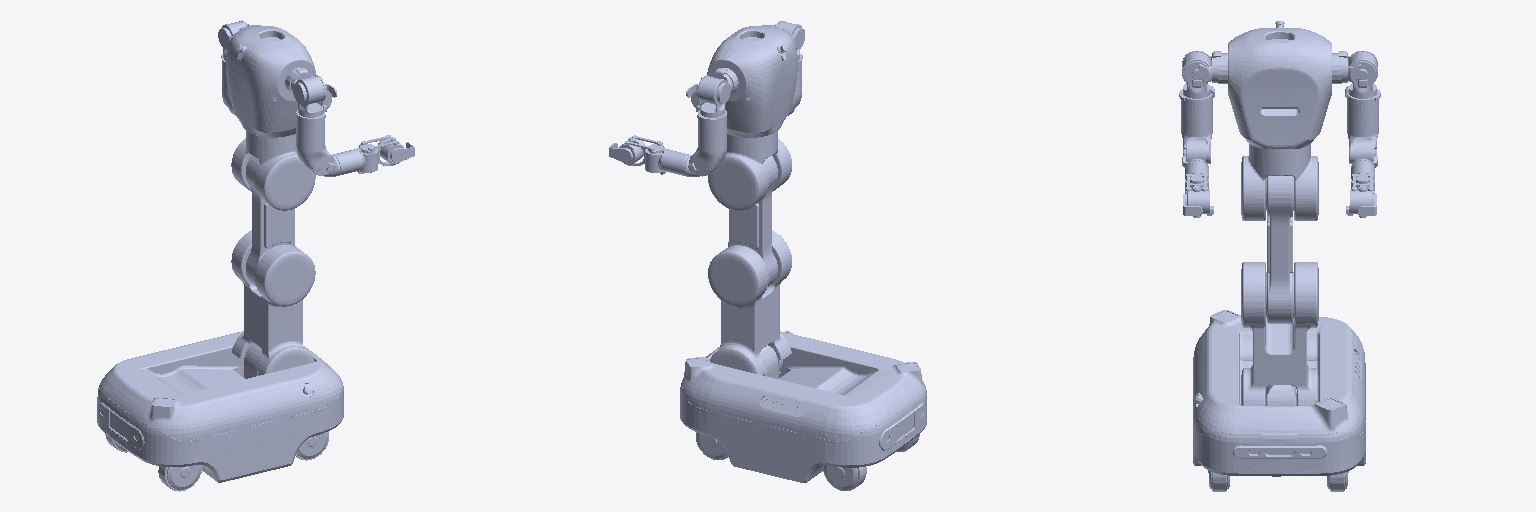
robot.urdf — wh00003_sldasm:
<?xml version="1.0" encoding="utf-8"?>
<!-- This URDF was automatically created by SolidWorks to URDF Exporter! Originally created by Stephen Brawner (brawner@gmail.com) 
     Commit Version: 1.6.0-4-g7f85cfe  Build Version: 1.6.7995.38578
     For more information, please see http://wiki.ros.org/sw_urdf_exporter -->
<robot
  name="wh00003_sldasm">
  <link
    name="base">
    <inertial>
      <origin
        xyz="-0.22311 0.002513 -0.021108"
        rpy="0 0 0"/>
      <mass
        value="86.1"/>
      <inertia
        ixx="2.53797"
        ixy="-0.010418"
        ixz="0.005338"
        iyy="4.222258"
        iyz="0.000861"
        izz="5.720484"/>
    </inertial>
    <visual>
      <origin
        xyz="0 0 0"
        rpy="0 0 0"/>
      <geometry>
        <mesh
          filename="package://wh00003_sldasm/meshes/base.STL"/>
      </geometry>
      <material
        name="">
        <color
          rgba="0.79216 0.81961 0.93333 1"/>
      </material>
    </visual>
    <collision>
      <origin
        xyz="0 0 0"
        rpy="0 0 0"/>
      <geometry>
        <mesh
          filename="package://wh00003_sldasm/meshes/base.STL"/>
      </geometry>
    </collision>
  </link>
  <link
    name="waist_pitch1_link">
    <inertial>
      <origin
        xyz="0.002729 0.002906 0.20961"
        rpy="0 0 0"/>
      <mass
        value="5"/>
      <inertia
        ixx="0.133655"
        ixy="1E-05"
        ixz="0.004875"
        iyy="0.116165"
        iyz="-0.000765"
        izz="0.040975"/>
    </inertial>
    <visual>
      <origin
        xyz="0 0 0"
        rpy="0 0 0"/>
      <geometry>
        <mesh
          filename="package://wh00003_sldasm/meshes/waist_pitch1_link.STL"/>
      </geometry>
      <material
        name="">
        <color
          rgba="0.79216 0.81961 0.93333 1"/>
      </material>
    </visual>
    <collision>
      <origin
        xyz="0 0 0"
        rpy="0 0 0"/>
      <geometry>
        <mesh
          filename="package://wh00003_sldasm/meshes/waist_pitch1_link.STL"/>
      </geometry>
    </collision>
  </link>
  <joint
    name="waist_pitch1_joint"
    type="revolute">
    <origin
      xyz="0 0.0048067 0.088251"
      rpy="0 0 0"/>
    <parent
      link="base"/>
    <child
      link="waist_pitch1_link"/>
    <axis
      xyz="0 1 0"/>
    <limit
      lower="-1.3265"
      upper="0"
      effort="0"
      velocity="0"/>
  </joint>
  <link
    name="waist_pitch2_link">
    <inertial>
      <origin
        xyz="9E-06 -0.007058 0.18252"
        rpy="0 0 0"/>
      <mass
        value="12"/>
      <inertia
        ixx="0.32496"
        ixy="-1.2E-05"
        ixz="2.4E-05"
        iyy="0.33588"
        iyz="-1.2E-05"
        izz="0.032928"/>
    </inertial>
    <visual>
      <origin
        xyz="0 0 0"
        rpy="0 0 0"/>
      <geometry>
        <mesh
          filename="package://wh00003_sldasm/meshes/waist_pitch2_link.STL"/>
      </geometry>
      <material
        name="">
        <color
          rgba="0.79216 0.81961 0.93333 1"/>
      </material>
    </visual>
    <collision>
      <origin
        xyz="0 0 0"
        rpy="0 0 0"/>
      <geometry>
        <mesh
          filename="package://wh00003_sldasm/meshes/waist_pitch2_link.STL"/>
      </geometry>
    </collision>
  </link>
  <joint
    name="waist_pitch2_joint"
    type="revolute">
    <origin
      xyz="0 0 0.365"
      rpy="0 0 0"/>
    <parent
      link="waist_pitch1_link"/>
    <child
      link="waist_pitch2_link"/>
    <axis
      xyz="0 1 0"/>
    <limit
      lower="0"
      upper="2.3736"
      effort="0"
      velocity="0"/>
  </joint>
  <link
    name="waist_pitch3_link">
    <inertial>
      <origin
        xyz="0 0.002265 0.073055"
        rpy="0 0 0"/>
      <mass
        value="6.5"/>
      <inertia
        ixx="0.088121"
        ixy="0"
        ixz="0"
        iyy="0.071182"
        iyz="0.001190"
        izz="0.049680"/>
    </inertial>
    <visual>
      <origin
        xyz="0 0 0"
        rpy="0 0 0"/>
      <geometry>
        <mesh
          filename="package://wh00003_sldasm/meshes/waist_pitch3_link.STL"/>
      </geometry>
      <material
        name="">
        <color
          rgba="0.79216 0.81961 0.93333 1"/>
      </material>
    </visual>
    <collision>
      <origin
        xyz="0 0 0"
        rpy="0 0 0"/>
      <geometry>
        <mesh
          filename="package://wh00003_sldasm/meshes/waist_pitch3_link.STL"/>
      </geometry>
    </collision>
  </link>
  <joint
    name="waist_pitch3_joint"
    type="revolute">
    <origin
      xyz="0 0 0.365"
      rpy="0 0 0"/>
    <parent
      link="waist_pitch2_link"/>
    <child
      link="waist_pitch3_link"/>
    <axis
      xyz="0 1 0"/>
    <limit
      lower="-1.6581"
      upper="1.6581"
      effort="0"
      velocity="0"/>
  </joint>
  <link
    name="waist_yaw_link">
    <inertial>
      <origin
        xyz="-0.011579 0 -0.049379"
        rpy="0 0 0"/>
      <mass
        value="10.42"/>
      <inertia
        ixx="0.153393"
        ixy="0"
        ixz="0.002584"
        iyy="0.110806"
        iyz="0"
        izz="0.122675"/>
    </inertial>
    <visual>
      <origin
        xyz="0 0 0"
        rpy="0 0 0"/>
      <geometry>
        <mesh
          filename="package://wh00003_sldasm/meshes/waist_yaw_link.STL"/>
      </geometry>
      <material
        name="">
        <color
          rgba="0.79216 0.81961 0.93333 1"/>
      </material>
    </visual>
    <collision>
      <origin
        xyz="0 0 0"
        rpy="0 0 0"/>
      <geometry>
        <mesh
          filename="package://wh00003_sldasm/meshes/waist_yaw_link.STL"/>
      </geometry>
    </collision>
  </link>
  <joint
    name="waist_yaw_joint"
    type="revolute">
    <origin
      xyz="0 0 0.411"
      rpy="0 0 0"/>
    <parent
      link="waist_pitch3_link"/>
    <child
      link="waist_yaw_link"/>
    <axis
      xyz="0 0 1"/>
    <limit
      lower="-1.5708"
      upper="1.5708"
      effort="0"
      velocity="0"/>
  </joint>
  <link
    name="left_shoulder_pitch_link">
    <inertial>
      <origin
        xyz="-0.004303 0.020182 0.002701"
        rpy="0 0 0"/>
      <mass
        value="0.2865"/>
      <inertia
        ixx="0.000347"
        ixy="6.8E-05"
        ixz="-8E-06"
        iyy="0.000481"
        iyz="1.3E-05"
        izz="0.000521"/>
    </inertial>
    <visual>
      <origin
        xyz="0 0 0"
        rpy="0 0 0"/>
      <geometry>
        <mesh
          filename="package://wh00003_sldasm/meshes/left_shoulder_pitch_link.STL"/>
      </geometry>
      <material
        name="">
        <color
          rgba="0.79216 0.81961 0.93333 1"/>
      </material>
    </visual>
    <collision>
      <origin
        xyz="0 0 0"
        rpy="0 0 0"/>
      <geometry>
        <mesh
          filename="package://wh00003_sldasm/meshes/left_shoulder_pitch_link.STL"/>
      </geometry>
    </collision>
  </link>
  <joint
    name="left_shoulder_pitch_joint"
    type="revolute">
    <origin
      xyz="0 0.2015 0"
      rpy="0 0 0"/>
    <parent
      link="waist_yaw_link"/>
    <child
      link="left_shoulder_pitch_link"/>
    <axis
      xyz="0 1 0"/>
    <limit
      lower="-2.3562"
      upper="2.3562"
      effort="0"
      velocity="0"/>
  </joint>
  <link
    name="left_shoulder_roll_link">
    <inertial>
      <origin
        xyz="-0.000341 0.000486 -0.012205"
        rpy="0 0 0"/>
      <mass
        value="2.2119"/>
      <inertia
        ixx="0.003563"
        ixy="0"
        ixz="5.8E-05"
        iyy="0.003701"
        iyz="7.1E-05"
        izz="0.0024"/>
    </inertial>
    <visual>
      <origin
        xyz="0 0 0"
        rpy="0 0 0"/>
      <geometry>
        <mesh
          filename="package://wh00003_sldasm/meshes/left_shoulder_roll_link.STL"/>
      </geometry>
      <material
        name="">
        <color
          rgba="0.79216 0.81961 0.93333 1"/>
      </material>
    </visual>
    <collision>
      <origin
        xyz="0 0 0"
        rpy="0 0 0"/>
      <geometry>
        <mesh
          filename="package://wh00003_sldasm/meshes/left_shoulder_roll_link.STL"/>
      </geometry>
    </collision>
  </link>
  <joint
    name="left_shoulder_roll_joint"
    type="revolute">
    <origin
      xyz="0 0.0565 0"
      rpy="0 0 0"/>
    <parent
      link="left_shoulder_pitch_link"/>
    <child
      link="left_shoulder_roll_link"/>
    <axis
      xyz="1 0 0"/>
    <limit
      lower="-0.24435"
      upper="2.8972"
      effort="0"
      velocity="0"/>
  </joint>
  <link
    name="left_shoulder_yaw_link">
    <inertial>
      <origin
        xyz="0.000815 -0.000629 -0.080506"
        rpy="0 0 0"/>
      <mass
        value="2.5816"/>
      <inertia
        ixx="0.008142"
        ixy="7.2E-05"
        ixz="0.000292"
        iyy="0.008029"
        iyz="-0.000289"
        izz="0.003462"/>
    </inertial>
    <visual>
      <origin
        xyz="0 0 0"
        rpy="0 0 0"/>
      <geometry>
        <mesh
          filename="package://wh00003_sldasm/meshes/left_shoulder_yaw_link.STL"/>
      </geometry>
      <material
        name="">
        <color
          rgba="0.79216 0.81961 0.93333 1"/>
      </material>
    </visual>
    <collision>
      <origin
        xyz="0 0 0"
        rpy="0 0 0"/>
      <geometry>
        <mesh
          filename="package://wh00003_sldasm/meshes/left_shoulder_yaw_link.STL"/>
      </geometry>
    </collision>
  </link>
  <joint
    name="left_shoulder_yaw_joint"
    type="revolute">
    <origin
      xyz="0 0 -0.0755"
      rpy="0 0 0"/>
    <parent
      link="left_shoulder_roll_link"/>
    <child
      link="left_shoulder_yaw_link"/>
    <axis
      xyz="0 0 1"/>
    <limit
      lower="-2.0944"
      upper="2.0944"
      effort="0"
      velocity="0"/>
  </joint>
  <link
    name="left_elbow_pitch_link">
    <inertial>
      <origin
        xyz="0.011064 0.000878 -0.009088"
        rpy="0 0 0"/>
      <mass
        value="1.5621"/>
      <inertia
        ixx="0.001614"
        ixy="-1.6E-05"
        ixz="0.000433"
        iyy="0.002162"
        iyz="6E-06"
        izz="0.001743"/>
    </inertial>
    <visual>
      <origin
        xyz="0 0 0"
        rpy="0 0 0"/>
      <geometry>
        <mesh
          filename="package://wh00003_sldasm/meshes/left_elbow_pitch_link.STL"/>
      </geometry>
      <material
        name="">
        <color
          rgba="0.79216 0.81961 0.93333 1"/>
      </material>
    </visual>
    <collision>
      <origin
        xyz="0 0 0"
        rpy="0 0 0"/>
      <geometry>
        <mesh
          filename="package://wh00003_sldasm/meshes/left_elbow_pitch_link.STL"/>
      </geometry>
    </collision>
  </link>
  <joint
    name="left_elbow_pitch_joint"
    type="revolute">
    <origin
      xyz="0.031 0.0001 -0.2005"
      rpy="0 0 0"/>
    <parent
      link="left_shoulder_yaw_link"/>
    <child
      link="left_elbow_pitch_link"/>
    <axis
      xyz="0 1 0"/>
    <limit
      lower="-1.0821"
      upper="1.5708"
      effort="0"
      velocity="0"/>
  </joint>
  <link
    name="left_wrist_roll_link">
    <inertial>
      <origin
        xyz="0.095727 0 -0.000767"
        rpy="0 0 0"/>
      <mass
        value="1.1706"/>
      <inertia
        ixx="0.000842"
        ixy="0"
        ixz="-3.2E-05"
        iyy="0.003306"
        iyz="0"
        izz="0.003156"/>
    </inertial>
    <visual>
      <origin
        xyz="0 0 0"
        rpy="0 0 0"/>
      <geometry>
        <mesh
          filename="package://wh00003_sldasm/meshes/left_wrist_roll_link.STL"/>
      </geometry>
      <material
        name="">
        <color
          rgba="0.79216 0.81961 0.93333 1"/>
      </material>
    </visual>
    <collision>
      <origin
        xyz="0 0 0"
        rpy="0 0 0"/>
      <geometry>
        <mesh
          filename="package://wh00003_sldasm/meshes/left_wrist_roll_link.STL"/>
      </geometry>
    </collision>
  </link>
  <joint
    name="left_wrist_roll_joint"
    type="revolute">
    <origin
      xyz="0.058 0 -0.030788"
      rpy="0 0 0"/>
    <parent
      link="left_elbow_pitch_link"/>
    <child
      link="left_wrist_roll_link"/>
    <axis
      xyz="1 0 0"/>
    <limit
      lower="-3.1416"
      upper="3.1416"
      effort="0"
      velocity="0"/>
  </joint>
  <link
    name="left_wrist_yaw_link">
    <inertial>
      <origin
        xyz=" -0.000269  -0.004372 -0.000550"
        rpy="0 0 0"/>
      <mass
        value="2.5678"/>
      <inertia
        ixx="0.002237   "
        ixy="-0.000026 "
        ixz="0.000000 "
        iyy="0.001864 "
        iyz="0.000069"
        izz="0.002157"/>
    </inertial>
    <visual>
      <origin
        xyz="0 0 0"
        rpy="0 0 0"/>
      <geometry>
        <mesh
          filename="package://wh00003_sldasm/meshes/left_wrist_yaw_link.STL"/>
      </geometry>
      <material
        name="">
        <color
          rgba="0.79216 0.81961 0.93333 1"/>
      </material>
    </visual>
    <collision>
      <origin
        xyz="0 0 0"
        rpy="0 0 0"/>
      <geometry>
        <mesh
          filename="package://wh00003_sldasm/meshes/left_wrist_yaw_link.STL"/>
      </geometry>
    </collision>
  </link>
  <joint
    name="left_wrist_yaw_joint"
    type="revolute">
    <origin
      xyz="0.234 0 -0.00021166"
      rpy="0 0 0"/>
    <parent
      link="left_wrist_roll_link"/>
    <child
      link="left_wrist_yaw_link"/>
    <axis
      xyz="0 0 1"/>
    <limit
      lower="-0.7854"
      upper="0.7854"
      effort="0"
      velocity="0"/>
  </joint>
  <link
    name="left_wrist_pitch_link">
    <inertial>
      <origin
        xyz="0.031811 0.031463 0"
        rpy="0 0 0"/>
      <mass
        value="0.1"/>
      <inertia
        ixx="3.8E-05"
        ixy="2.8E-05"
        ixz="0"
        iyy="0.000109"
        iyz="0"
        izz="0.000117"/>
    </inertial>
    <visual>
      <origin
        xyz="0 0 0"
        rpy="0 0 0"/>
      <geometry>
        <mesh
          filename="package://wh00003_sldasm/meshes/left_wrist_pitch_link.STL"/>
      </geometry>
      <material
        name="">
        <color
          rgba="0.79216 0.81961 0.93333 1"/>
      </material>
    </visual>
    <collision>
      <origin
        xyz="0 0 0"
        rpy="0 0 0"/>
      <geometry>
        <mesh
          filename="package://wh00003_sldasm/meshes/left_wrist_pitch_link.STL"/>
      </geometry>
    </collision>
  </link>
  <joint
    name="left_wrist_pitch_joint"
    type="revolute">
    <origin
      xyz="0 0 0"
      rpy="0 0 0"/>
    <parent
      link="left_wrist_yaw_link"/>
    <child
      link="left_wrist_pitch_link"/>
    <axis
      xyz="0 1 0"/>
    <limit
      lower="-1.5708"
      upper="1.5708"
      effort="0"
      velocity="0"/>
  </joint>
  <link
    name="right_shoulder_pitch_link">
    <inertial>
      <origin
        xyz="-0.004303 -0.020182 0.002701"
        rpy="0 0 0"/>
      <mass
        value="0.2865"/>
      <inertia
        ixx="0.000347"
        ixy="-6.8E-05"
        ixz="-8E-06"
        iyy="0.000481"
        iyz="-1.3E-05"
        izz="0.000521"/>
    </inertial>
    <visual>
      <origin
        xyz="0 0 0"
        rpy="0 0 0"/>
      <geometry>
        <mesh
          filename="package://wh00003_sldasm/meshes/right_shoulder_pitch_link.STL"/>
      </geometry>
      <material
        name="">
        <color
          rgba="0.79216 0.81961 0.93333 1"/>
      </material>
    </visual>
    <collision>
      <origin
        xyz="0 0 0"
        rpy="0 0 0"/>
      <geometry>
        <mesh
          filename="package://wh00003_sldasm/meshes/right_shoulder_pitch_link.STL"/>
      </geometry>
    </collision>
  </link>
  <joint
    name="right_shoulder_pitch_joint"
    type="revolute">
    <origin
      xyz="0 -0.2015 0"
      rpy="0 0 0"/>
    <parent
      link="waist_yaw_link"/>
    <child
      link="right_shoulder_pitch_link"/>
    <axis
      xyz="0 1 0"/>
    <limit
      lower="-2.3562"
      upper="2.3562"
      effort="0"
      velocity="0"/>
  </joint>
  <link
    name="right_shoulder_roll_link">
    <inertial>
      <origin
        xyz="-0.000341 0.000486 -0.012205"
        rpy="0 0 0"/>
      <mass
        value="2.2119"/>
      <inertia
        ixx="0.003563"
        ixy="0"
        ixz="5.8E-05"
        iyy="0.003701"
        iyz="7.1E-05"
        izz="0.0024"/>
    </inertial>
    <visual>
      <origin
        xyz="0 0 0"
        rpy="0 0 0"/>
      <geometry>
        <mesh
          filename="package://wh00003_sldasm/meshes/right_shoulder_roll_link.STL"/>
      </geometry>
      <material
        name="">
        <color
          rgba="0.79216 0.81961 0.93333 1"/>
      </material>
    </visual>
    <collision>
      <origin
        xyz="0 0 0"
        rpy="0 0 0"/>
      <geometry>
        <mesh
          filename="package://wh00003_sldasm/meshes/right_shoulder_roll_link.STL"/>
      </geometry>
    </collision>
  </link>
  <joint
    name="right_shoulder_roll_joint"
    type="revolute">
    <origin
      xyz="0 -0.0565 0"
      rpy="0 0 0"/>
    <parent
      link="right_shoulder_pitch_link"/>
    <child
      link="right_shoulder_roll_link"/>
    <axis
      xyz="1 0 0"/>
    <limit
      lower="-2.8972"
      upper="0.24435"
      effort="0"
      velocity="0"/>
  </joint>
  <link
    name="right_shoulder_yaw_link">
    <inertial>
      <origin
        xyz="0.000815 0.000629 -0.080506"
        rpy="0 0 0"/>
      <mass
        value="2.5816"/>
      <inertia
        ixx="0.008142"
        ixy="-7.2E-05"
        ixz="0.000292"
        iyy="0.008029"
        iyz="0.000289"
        izz="0.003462"/>
    </inertial>
    <visual>
      <origin
        xyz="0 0 0"
        rpy="0 0 0"/>
      <geometry>
        <mesh
          filename="package://wh00003_sldasm/meshes/right_shoulder_yaw_link.STL"/>
      </geometry>
      <material
        name="">
        <color
          rgba="0.79216 0.81961 0.93333 1"/>
      </material>
    </visual>
    <collision>
      <origin
        xyz="0 0 0"
        rpy="0 0 0"/>
      <geometry>
        <mesh
          filename="package://wh00003_sldasm/meshes/right_shoulder_yaw_link.STL"/>
      </geometry>
    </collision>
  </link>
  <joint
    name="right_shoulder_yaw_joint"
    type="revolute">
    <origin
      xyz="0 0 -0.0755"
      rpy="0 0 0"/>
    <parent
      link="right_shoulder_roll_link"/>
    <child
      link="right_shoulder_yaw_link"/>
    <axis
      xyz="0 0 1"/>
    <limit
      lower="-2.0944"
      upper="2.0944"
      effort="0"
      velocity="0"/>
  </joint>
  <link
    name="right_elbow_pitch_link">
    <inertial>
      <origin
        xyz="0.011064 -0.000878 -0.009088"
        rpy="0 0 0"/>
      <mass
        value="1.5621"/>
      <inertia
        ixx="0.001614"
        ixy="1.6E-05"
        ixz="0.000433"
        iyy="0.002162"
        iyz="-6E-06"
        izz="0.001743"/>
    </inertial>
    <visual>
      <origin
        xyz="0 0 0"
        rpy="0 0 0"/>
      <geometry>
        <mesh
          filename="package://wh00003_sldasm/meshes/right_elbow_pitch_link.STL"/>
      </geometry>
      <material
        name="">
        <color
          rgba="0.79216 0.81961 0.93333 1"/>
      </material>
    </visual>
    <collision>
      <origin
        xyz="0 0 0"
        rpy="0 0 0"/>
      <geometry>
        <mesh
          filename="package://wh00003_sldasm/meshes/right_elbow_pitch_link.STL"/>
      </geometry>
    </collision>
  </link>
  <joint
    name="right_elbow_pitch_joint"
    type="revolute">
    <origin
      xyz="0.031 -0.0001 -0.2005"
      rpy="0 0 0"/>
    <parent
      link="right_shoulder_yaw_link"/>
    <child
      link="right_elbow_pitch_link"/>
    <axis
      xyz="0 1 0"/>
    <limit
      lower="-1.0821"
      upper="1.5708"
      effort="0"
      velocity="0"/>
  </joint>
  <link
    name="right_wrist_roll_link">
    <inertial>
      <origin
        xyz="0.095727 0 -0.000344"
        rpy="0 0 0"/>
      <mass
        value="1.1706"/>
      <inertia
        ixx="0.000997"
        ixy="0"
        ixz="-3.7E-05"
        iyy="0.003916"
        iyz="0"
        izz="0.003739"/>
    </inertial>
    <visual>
      <origin
        xyz="0 0 0"
        rpy="0 0 0"/>
      <geometry>
        <mesh
          filename="package://wh00003_sldasm/meshes/right_wrist_roll_link.STL"/>
      </geometry>
      <material
        name="">
        <color
          rgba="0.79216 0.81961 0.93333 1"/>
      </material>
    </visual>
    <collision>
      <origin
        xyz="0 0 0"
        rpy="0 0 0"/>
      <geometry>
        <mesh
          filename="package://wh00003_sldasm/meshes/right_wrist_roll_link.STL"/>
      </geometry>
    </collision>
  </link>
  <joint
    name="right_wrist_roll_joint"
    type="revolute">
    <origin
      xyz="0.058 0 -0.031212"
      rpy="0 0 0"/>
    <parent
      link="right_elbow_pitch_link"/>
    <child
      link="right_wrist_roll_link"/>
    <axis
      xyz="1 0 0"/>
    <limit
      lower="-3.1416"
      upper="3.1416"
      effort="0"
      velocity="0"/>
  </joint>
  <link
    name="right_wrist_yaw_link">
    <inertial>
      <origin
        xyz="-0.000269  0.004372 -0.000550"
        rpy="0 0 0"/>
      <mass
        value="2.5678"/>
      <inertia
        ixx="0.002237"
        ixy="0.000026"
        ixz="0.000000"
        iyy="0.001864"
        iyz="-0.000069"
        izz="0.002157"/>
    </inertial>
    <visual>
      <origin
        xyz="0 0 0"
        rpy="0 0 0"/>
      <geometry>
        <mesh
          filename="package://wh00003_sldasm/meshes/right_wrist_yaw_link.STL"/>
      </geometry>
      <material
        name="">
        <color
          rgba="0.79216 0.81961 0.93333 1"/>
      </material>
    </visual>
    <collision>
      <origin
        xyz="0 0 0"
        rpy="0 0 0"/>
      <geometry>
        <mesh
          filename="package://wh00003_sldasm/meshes/right_wrist_yaw_link.STL"/>
      </geometry>
    </collision>
  </link>
  <joint
    name="right_wrist_yaw_joint"
    type="revolute">
    <origin
      xyz="0.234 0 0.00021166"
      rpy="0 0 0"/>
    <parent
      link="right_wrist_roll_link"/>
    <child
      link="right_wrist_yaw_link"/>
    <axis
      xyz="0 0 1"/>
    <limit
      lower="-0.7854"
      upper="0.7854"
      effort="0"
      velocity="0"/>
  </joint>
  <link
    name="right_wrist_pitch_link">
    <inertial>
      <origin
        xyz="0.031811 -0.031463 0"
        rpy="0 0 0"/>
      <mass
        value="0.1"/>
      <inertia
        ixx="3.8E-05"
        ixy="-2.8E-05"
        ixz="0"
        iyy="0.000109"
        iyz="0"
        izz="0.000117"/>
    </inertial>
    <visual>
      <origin
        xyz="0 0 0"
        rpy="0 0 0"/>
      <geometry>
        <mesh
          filename="package://wh00003_sldasm/meshes/right_wrist_pitch_link.STL"/>
      </geometry>
      <material
        name="">
        <color
          rgba="0.79216 0.81961 0.93333 1"/>
      </material>
    </visual>
    <collision>
      <origin
        xyz="0 0 0"
        rpy="0 0 0"/>
      <geometry>
        <mesh
          filename="package://wh00003_sldasm/meshes/right_wrist_pitch_link.STL"/>
      </geometry>
    </collision>
  </link>
  <joint
    name="right_wrist_pitch_joint"
    type="revolute">
    <origin
      xyz="0 0 0"
      rpy="0 0 0"/>
    <parent
      link="right_wrist_yaw_link"/>
    <child
      link="right_wrist_pitch_link"/>
    <axis
      xyz="0 1 0"/>
    <limit
      lower="-1.5708"
      upper="1.5708"
      effort="0"
      velocity="0"/>
  </joint>
</robot>

--- Render facts (derived) ---
Views: 3 orthographic renders of the robot side by side, from view 1: azimuth 30°, elevation 25°; view 2: azimuth 150°, elevation 25°; view 3: azimuth 270°, elevation 25°.
Model wh00003_sldasm with 19 links and 18 joints (18 revolute), rooted at base, posed all joints at 0.
Links seen in each view (by area): view 1: base, waist_pitch1_link, waist_yaw_link, waist_pitch3_link, waist_pitch2_link, right_shoulder_yaw_link, right_wrist_roll_link, right_shoulder_roll_link; view 2: base, waist_pitch1_link, waist_yaw_link, waist_pitch3_link, waist_pitch2_link, left_shoulder_yaw_link, left_wrist_roll_link, left_shoulder_roll_link; view 3: base, waist_yaw_link, waist_pitch1_link, waist_pitch3_link, waist_pitch2_link, left_shoulder_yaw_link, right_shoulder_yaw_link, left_shoulder_roll_link, right_shoulder_roll_link, left_wrist_roll_link, right_wrist_roll_link.
Link boxes in pixels (<box>): base: <box>97,331,343,491</box>; waist_pitch1_link: <box>231,230,315,375</box>; waist_yaw_link: <box>226,25,315,137</box>; waist_pitch3_link: <box>231,131,315,210</box>; waist_pitch2_link: <box>246,156,295,285</box>; right_shoulder_yaw_link: <box>296,110,329,171</box>; right_wrist_roll_link: <box>333,135,398,175</box>; right_shoulder_roll_link: <box>296,75,325,117</box>; base: <box>680,331,926,490</box>; waist_pitch1_link: <box>708,231,791,374</box>; waist_yaw_link: <box>707,25,797,137</box>; waist_pitch3_link: <box>708,131,791,210</box>; waist_pitch2_link: <box>728,156,777,286</box>; left_shoulder_yaw_link: <box>693,110,726,171</box>; left_wrist_roll_link: <box>625,135,688,175</box>; left_shoulder_roll_link: <box>697,75,726,117</box>; base: <box>1193,310,1365,491</box>; waist_yaw_link: <box>1218,21,1341,148</box>; waist_pitch1_link: <box>1241,262,1318,405</box>; waist_pitch3_link: <box>1241,144,1318,220</box>; waist_pitch2_link: <box>1266,176,1293,323</box>; left_shoulder_yaw_link: <box>1347,89,1380,163</box>; right_shoulder_yaw_link: <box>1179,89,1212,163</box>; left_shoulder_roll_link: <box>1345,51,1377,98</box>; right_shoulder_roll_link: <box>1182,51,1214,98</box>; left_wrist_roll_link: <box>1351,160,1374,217</box>; right_wrist_roll_link: <box>1185,160,1208,217</box>.
Size in the robot's own frame: 1.01 by 0.6264 by 1.54 metres.
19 mesh visuals loaded from 19 distinct referenced files (19 binary STL).
